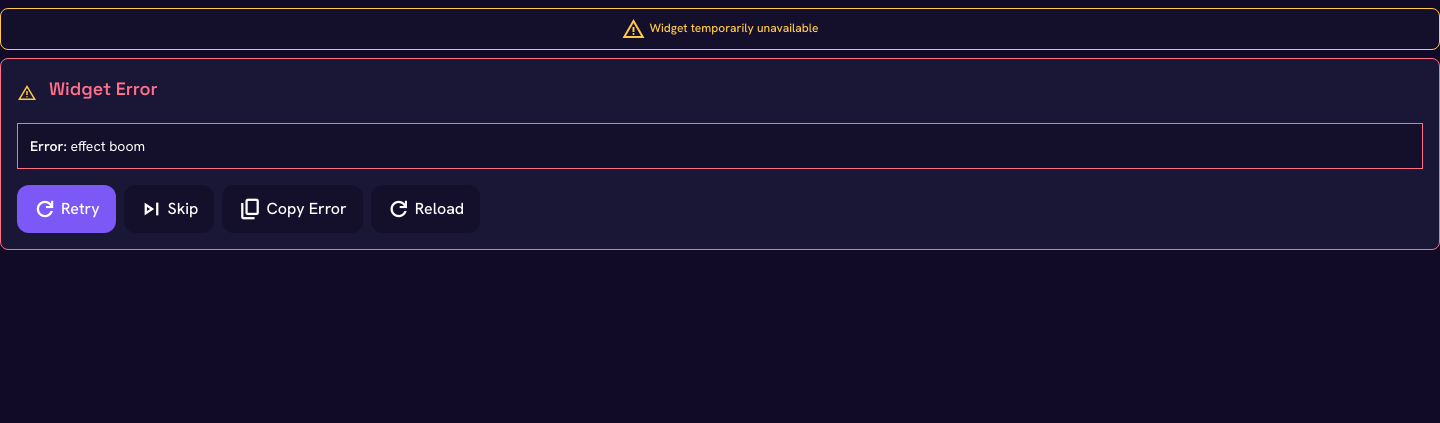
FeatureErrorBoundary › still disables a feature whose child throws from an effect after every retry
The width and height of the screenshot is (1440, 423).
Click the button "Retry": (66, 209) [17, 185, 116, 233]
Wait 60000 ms
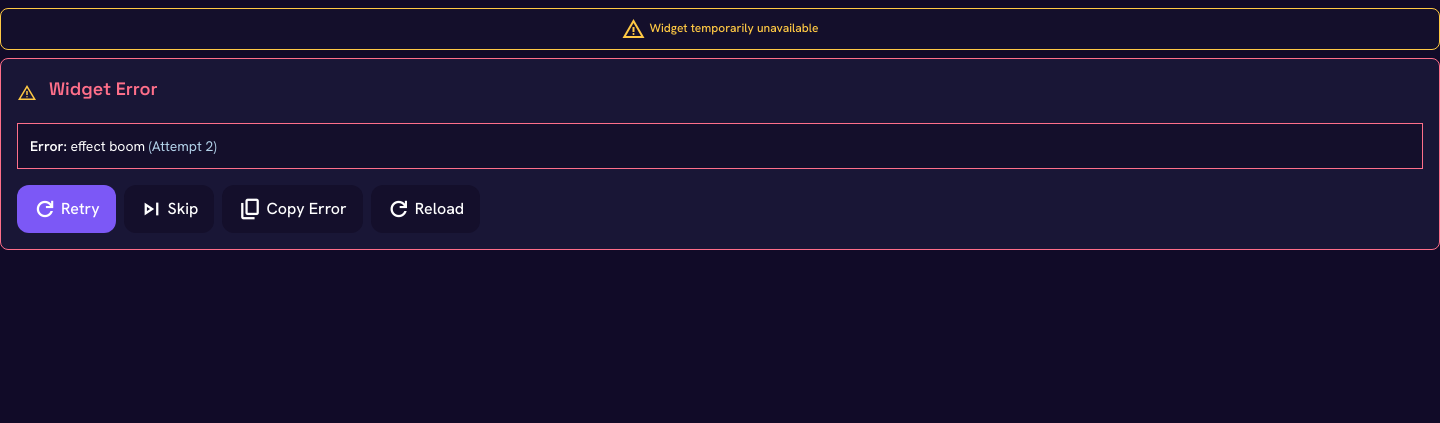
Click the button "Retry": (66, 209) [17, 185, 116, 233]
Wait 60000 ms
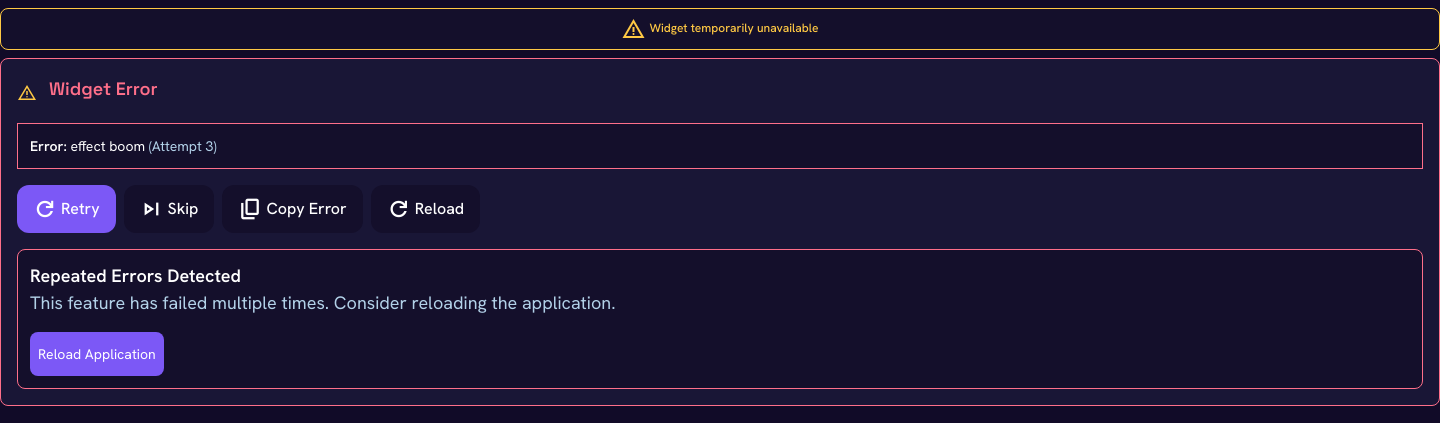
Click the button "Retry": (66, 209) [17, 185, 116, 233]
Wait 60000 ms
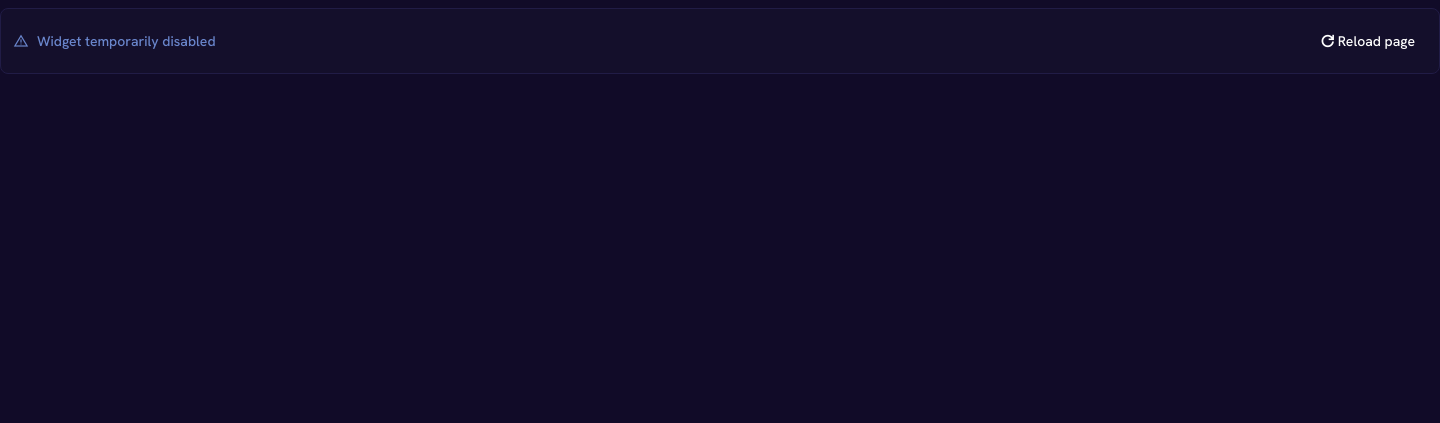
Result: the text "Widget temporarily disabled" is shown at [37, 32, 216, 50]
